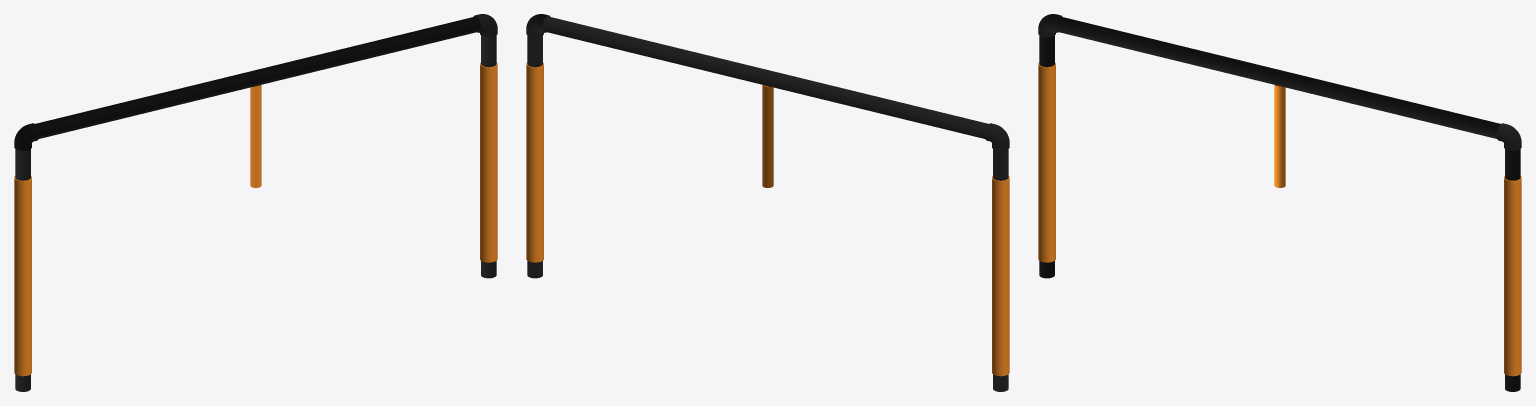
File: gate.dae
3 views of the same model, side by side, from view 1: azimuth 30°, elevation 25°; view 2: azimuth 150°, elevation 25°; view 3: azimuth 330°, elevation 25° (orthographic).
Parts seen in each view (by area): view 1: horizontal_pvc, orange_wrap_left, orange_wrap_right, center, left, right, corner_left; view 2: horizontal_pvc, orange_wrap_left, orange_wrap_right, center, right, left, corner_left; view 3: horizontal_pvc, orange_wrap_right, orange_wrap_left, center, left, right, corner_right.
Part boxes in pixels (x1,y1,x2,y2): horizontal_pvc: [35, 16, 480, 138]; orange_wrap_left: [14, 176, 31, 376]; orange_wrap_right: [480, 62, 497, 262]; center: [250, 85, 261, 187]; left: [15, 149, 30, 391]; right: [481, 35, 496, 278]; corner_left: [14, 123, 39, 150]; horizontal_pvc: [543, 16, 988, 138]; orange_wrap_left: [992, 176, 1009, 376]; orange_wrap_right: [526, 62, 543, 262]; center: [762, 85, 773, 187]; right: [527, 35, 542, 278]; left: [993, 149, 1008, 391]; corner_left: [984, 123, 1009, 150]; horizontal_pvc: [1055, 16, 1500, 138]; orange_wrap_right: [1504, 176, 1521, 376]; orange_wrap_left: [1038, 62, 1055, 262]; center: [1274, 85, 1285, 187]; left: [1039, 35, 1054, 278]; right: [1505, 149, 1520, 391]; corner_right: [1496, 123, 1521, 150].
Size of the model in its own units: 3.15 by 0.1016 by 1.64.
